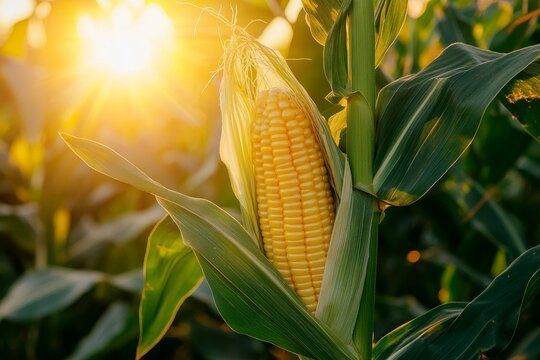corn: (197, 6, 401, 352)
